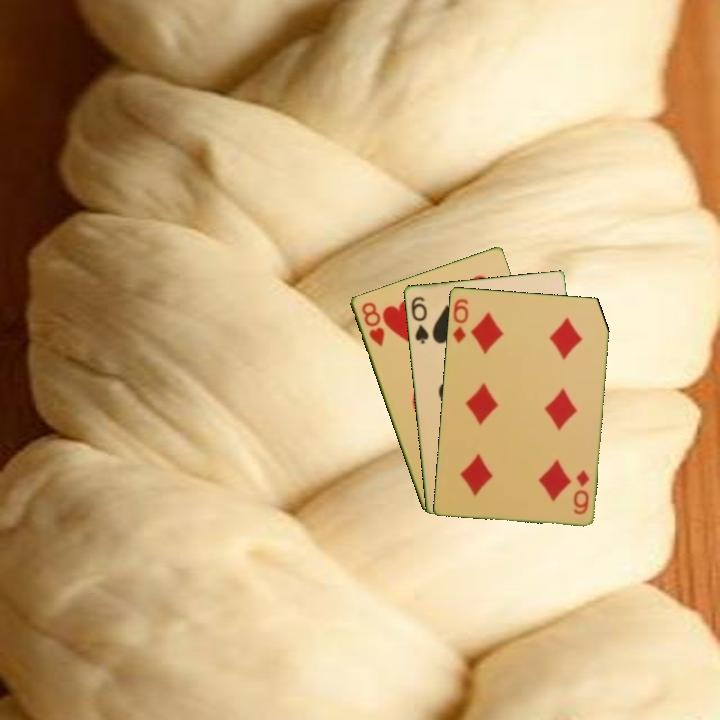6d: (449, 295, 471, 346), (570, 466, 592, 517)
6s: (407, 293, 431, 346)
8h: (357, 298, 387, 349)
